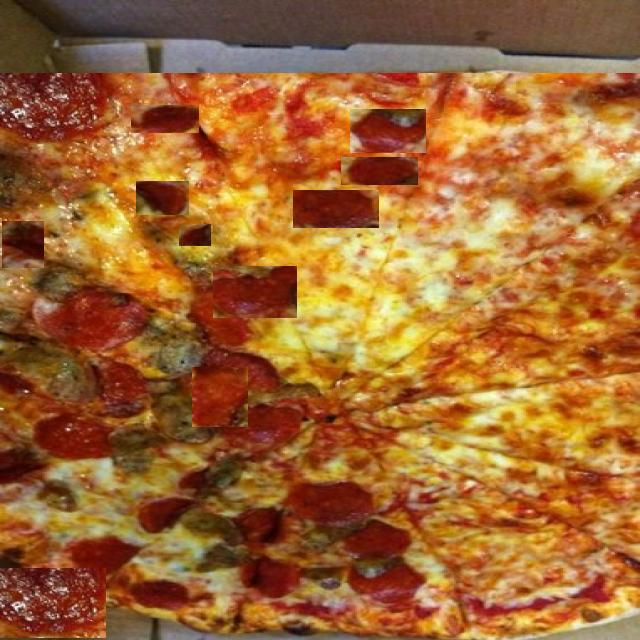pepperoni: (38, 363, 146, 434), (0, 568, 106, 638), (213, 266, 297, 318), (192, 367, 248, 427), (350, 109, 426, 153), (86, 294, 150, 346), (293, 190, 379, 228), (71, 136, 141, 179), (32, 254, 111, 292), (341, 157, 418, 185), (244, 116, 291, 158), (2, 221, 44, 268), (131, 105, 199, 133), (136, 181, 189, 215), (179, 224, 211, 246)
pizza: (0, 73, 640, 640)
